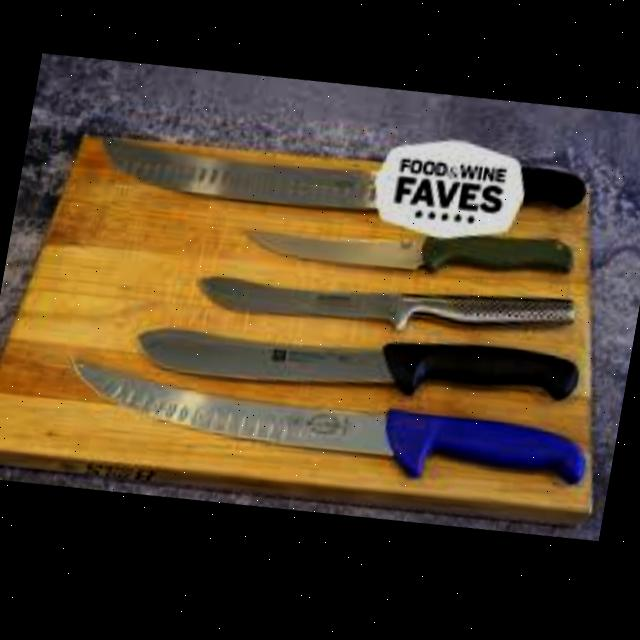knife: (56, 323, 594, 531), (92, 92, 590, 271), (132, 284, 582, 445), (191, 241, 577, 377), (238, 190, 574, 314)
